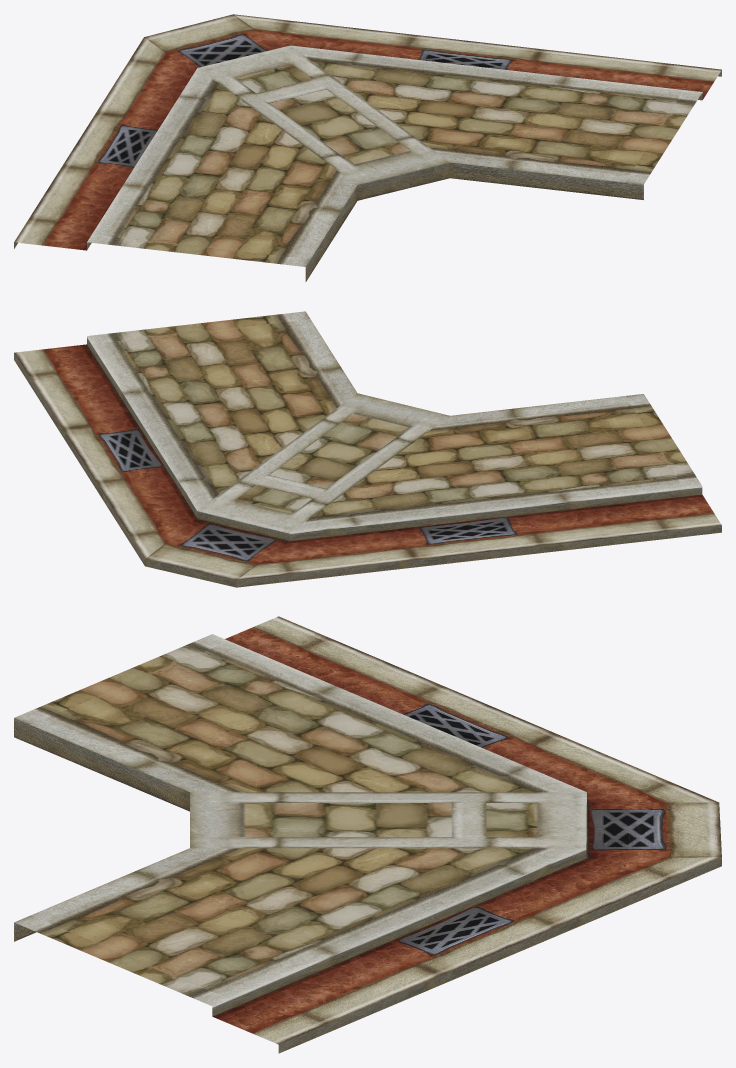
File: obj_masabkdiaoutle01.glb
3 views of the same model, one above another, from view 1: azimuth 30°, elevation 25°; view 2: azimuth 150°, elevation 25°; view 3: azimuth 270°, elevation 25° (orthographic). The views are drawn at different scales.
Parts seen in each view (by area): view 1: part_0; view 2: part_0; view 3: part_0.
Boxes of the visible parts, x1,y1,x2,y2 form: part_0: (14,14,721,281); part_0: (14,311,721,587); part_0: (14,616,721,1053).
Size of the model in its own units: 10.83 by 0.2284 by 7.57.
Materials: 2 (2 with a texture image).
